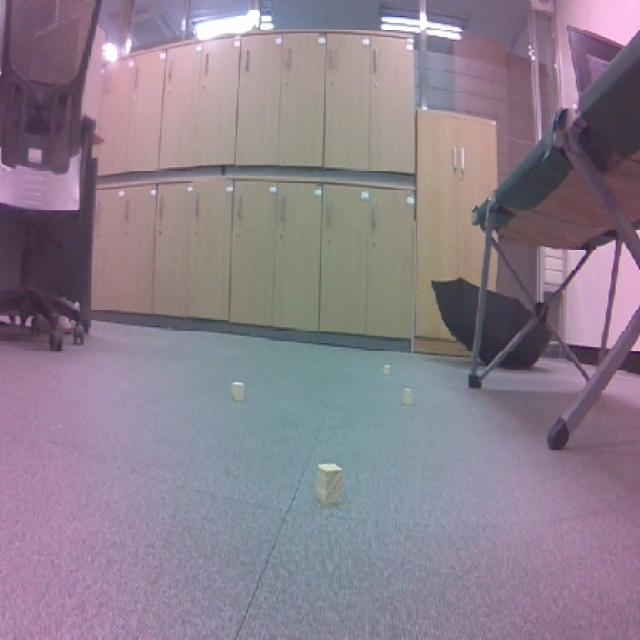obstacle: (308, 457, 355, 514)
